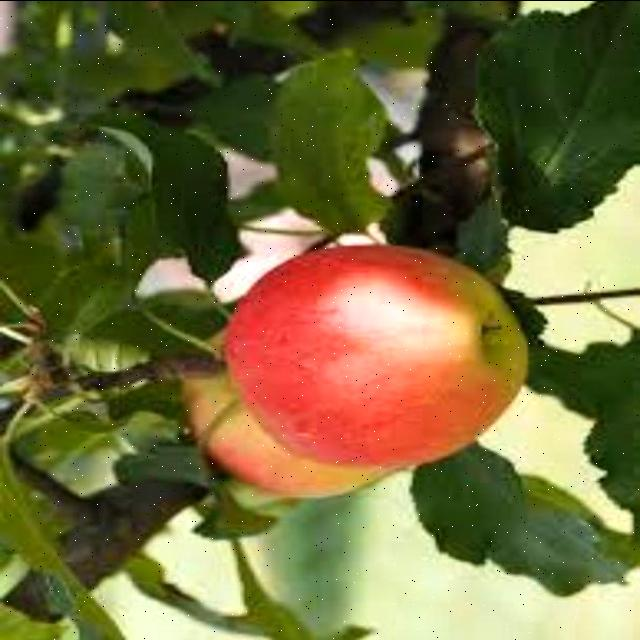HEALTHY: (230, 226, 542, 480)
